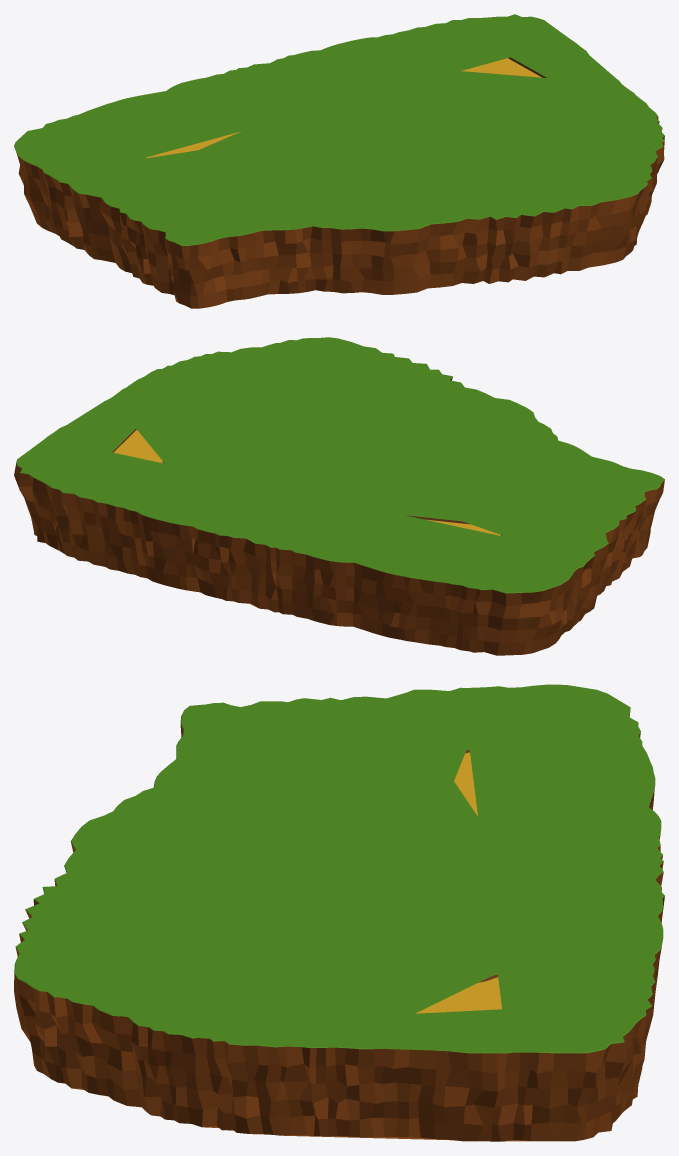
The model's file is map1new.fbx.
The picture shows the model from 3 angles, top to bottom: view 1: azimuth 30°, elevation 25°; view 2: azimuth 150°, elevation 25°; view 3: azimuth 270°, elevation 25°; orthographic projection. The views are drawn at different scales.
Parts seen in each view (by area): view 1: Map1; view 2: Map1; view 3: Map1.
Part boxes in pixels (x1,y1,x2,y2): Map1: (14,14,664,308); Map1: (14,337,664,655); Map1: (14,684,664,1141).
Size of the model in its own units: 3909 by 483 by 2911.
Materials: 1 (1 with a texture image).
